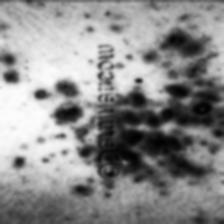Non-Cancerous Skin Condition: (120, 109, 202, 177), (58, 104, 78, 122), (170, 86, 188, 98), (169, 36, 186, 44), (196, 103, 209, 112)
